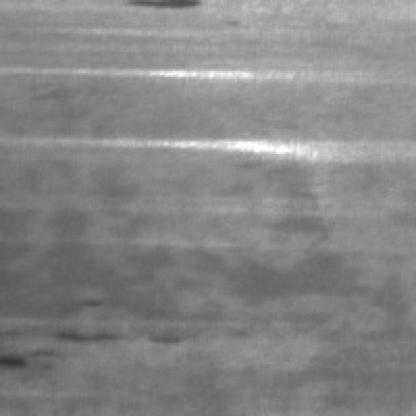inclusion: (0, 324, 116, 365)
scratches: (48, 126, 397, 162), (19, 56, 328, 88)
